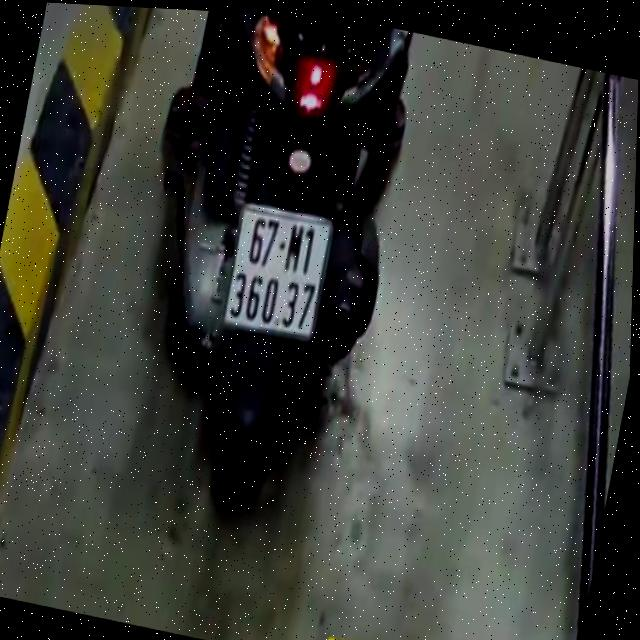motorcycle: (112, 7, 438, 537)
plate: (213, 195, 343, 350)
